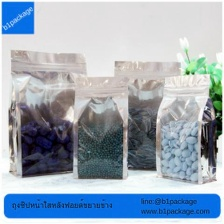snack: (2, 45, 91, 182), (107, 54, 186, 176), (151, 70, 221, 187), (70, 72, 135, 183)
